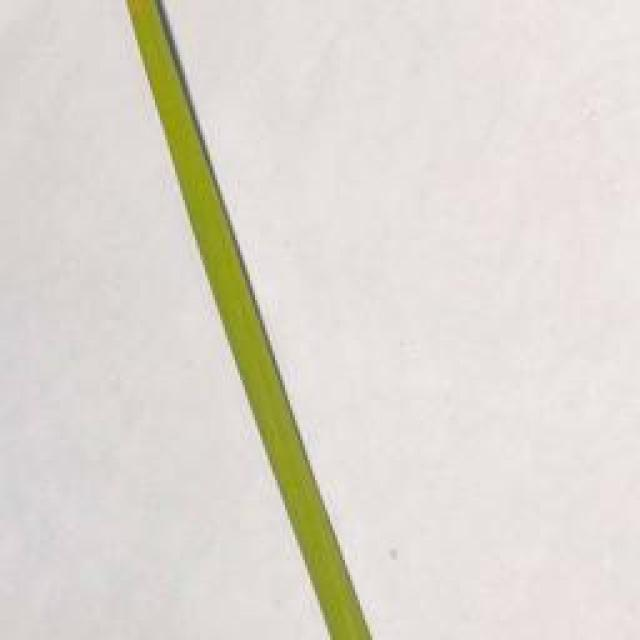Healthy-Plant: (124, 3, 370, 640)
